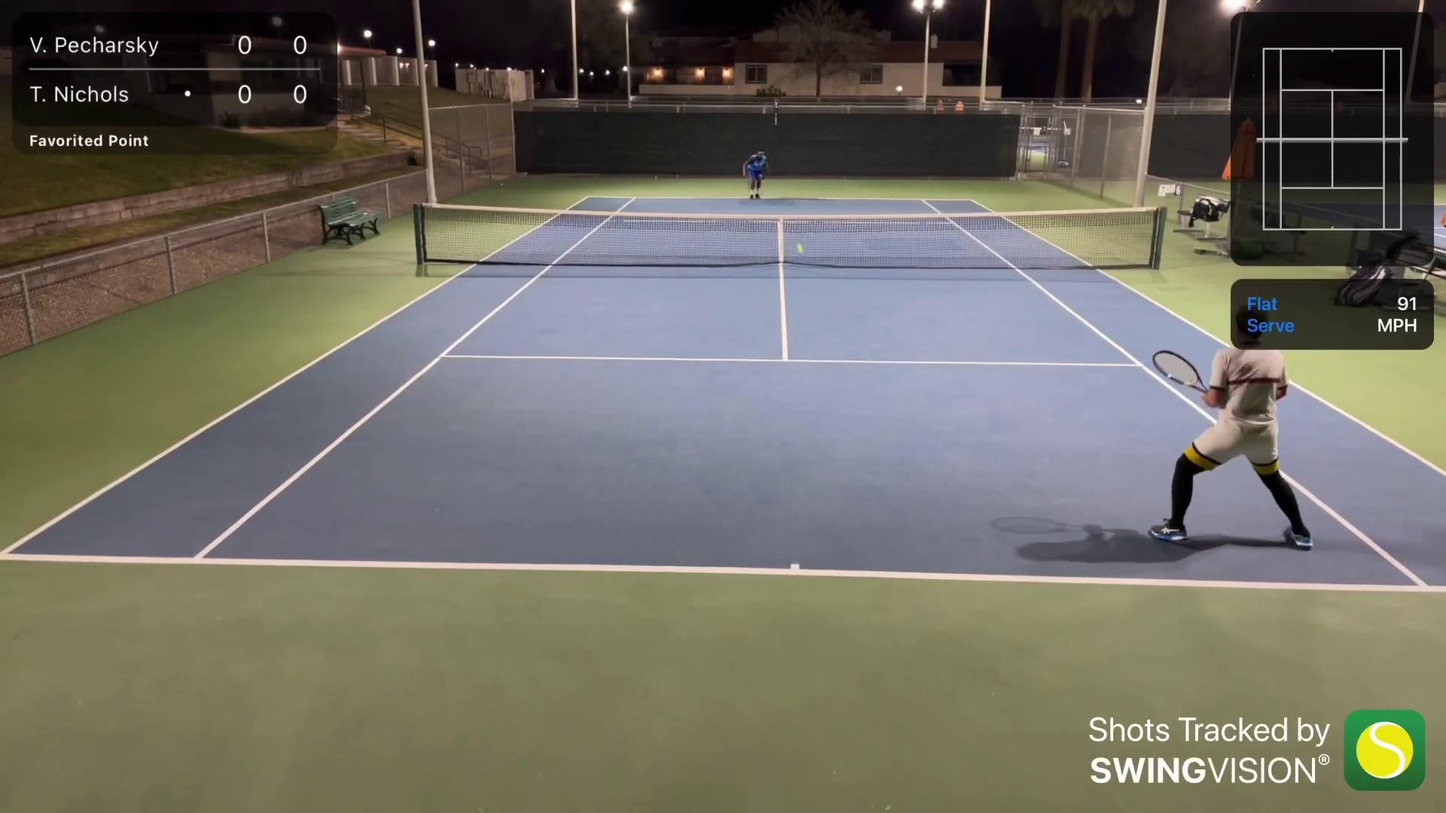ball: (796, 247, 803, 254)
